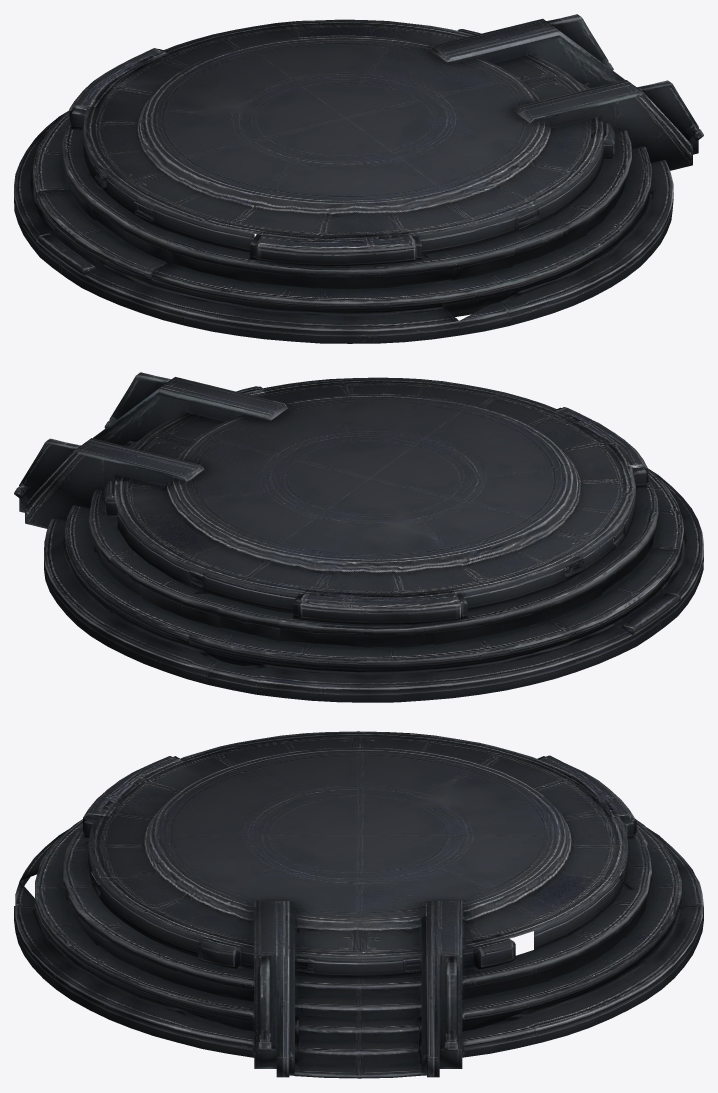
Rendered from sci-fi-stargate-props-raised-circular-platform.glb.
The picture shows the model from 3 angles, top to bottom: view 1: azimuth 30°, elevation 25°; view 2: azimuth 150°, elevation 25°; view 3: azimuth 270°, elevation 25°; orthographic projection. The views are drawn at different scales.
Parts seen in each view (by area): view 1: Raised Circular Platform; view 2: Raised Circular Platform; view 3: Raised Circular Platform.
Boxes of the visible parts, left/top/right/bottom form: Raised Circular Platform: left=14, top=14, right=703, bottom=343; Raised Circular Platform: left=14, top=372, right=703, bottom=702; Raised Circular Platform: left=14, top=731, right=703, bottom=1078.
Size of the model in its own units: 0.998 by 0.1387 by 0.959.
1 material, 1 textured.
